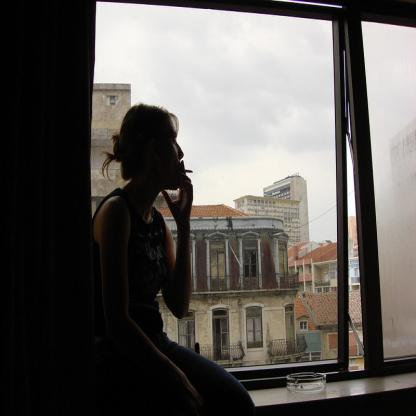smoking: (180, 170, 193, 173)
